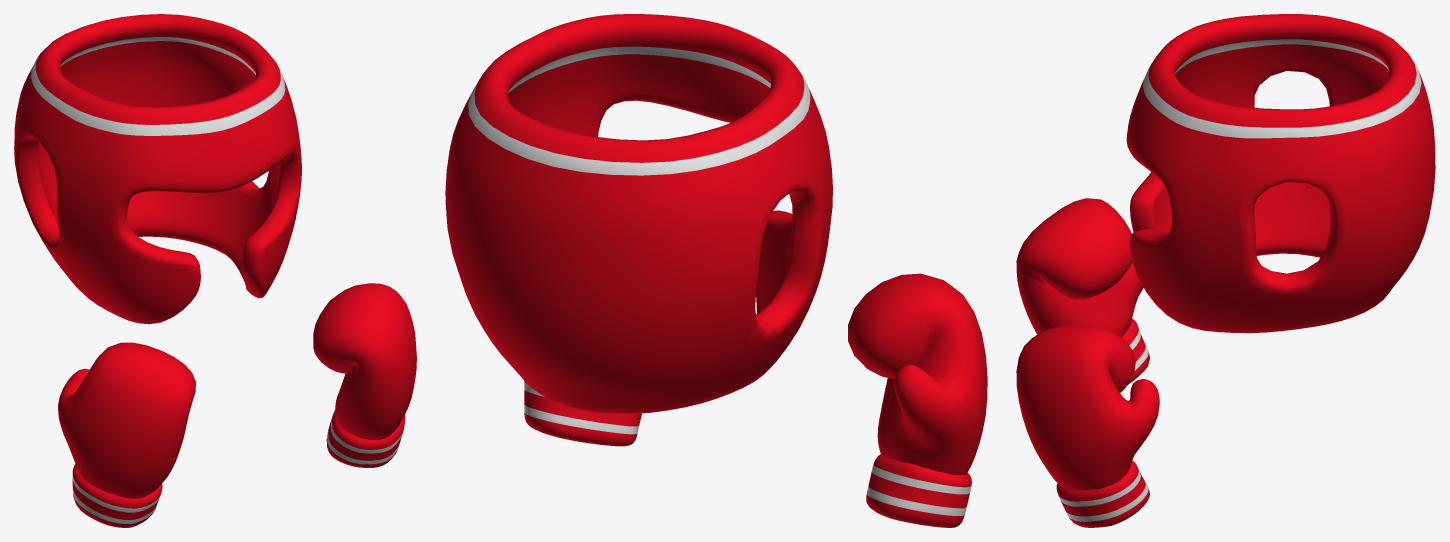
Rendered from HP_Boxing_Gloves_and_Head_Gear.fbx.
3 views of the same model, side by side, from view 1: azimuth 30°, elevation 25°; view 2: azimuth 150°, elevation 25°; view 3: azimuth 270°, elevation 25° (orthographic). The views are drawn at different scales.
Visible parts, largest first — view 1: Boxing Headgear, Right Glove, Left Glove; view 2: Boxing Headgear, Right Glove, Left Glove; view 3: Boxing Headgear, Left Glove, Right Glove.
Boxes of the visible parts, box(x1,y1,x2,y2) form: Boxing Headgear: box(14, 14, 301, 324); Right Glove: box(58, 342, 195, 527); Left Glove: box(313, 283, 416, 467); Boxing Headgear: box(445, 14, 832, 413); Right Glove: box(848, 273, 987, 527); Left Glove: box(524, 381, 641, 446); Boxing Headgear: box(1126, 14, 1435, 333); Left Glove: box(1016, 324, 1159, 527); Right Glove: box(1016, 198, 1149, 385).
Size of the model in its own units: 43.01 by 43.98 by 42.43.
